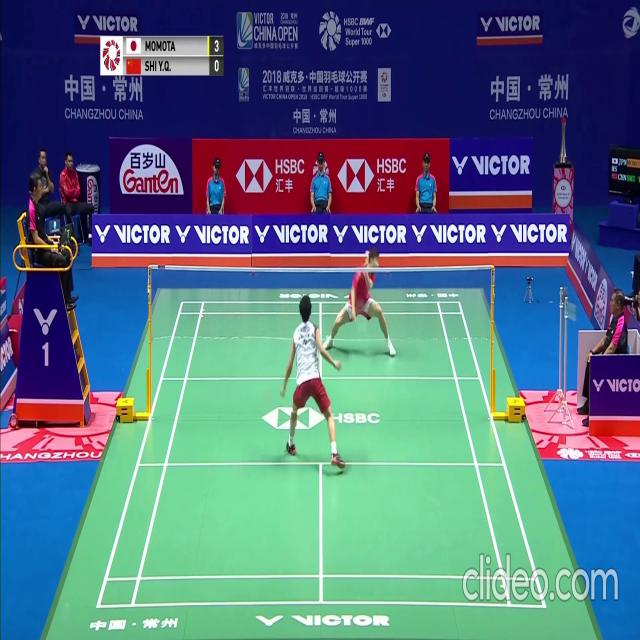Shuttlecock: (376, 259, 381, 267)
